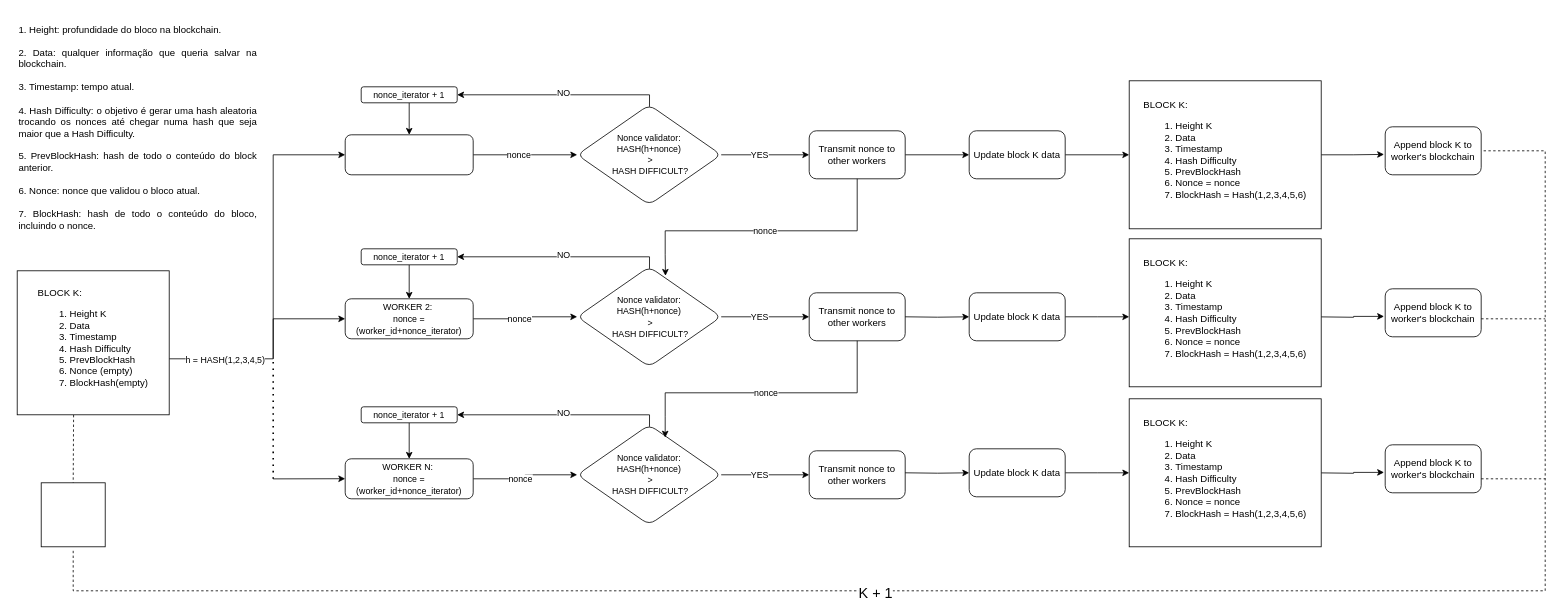
The diagram is 1560 pixels wide and 616 high, and some of its shapes have lost their labels. Here are the shapes that lost their labels. From the top down, the centre of each, then its label:
At point 408,154: "WORKER 1: nonce = ( worker_id+nonce_iterator)".
At point 72,514: "Data Source".
